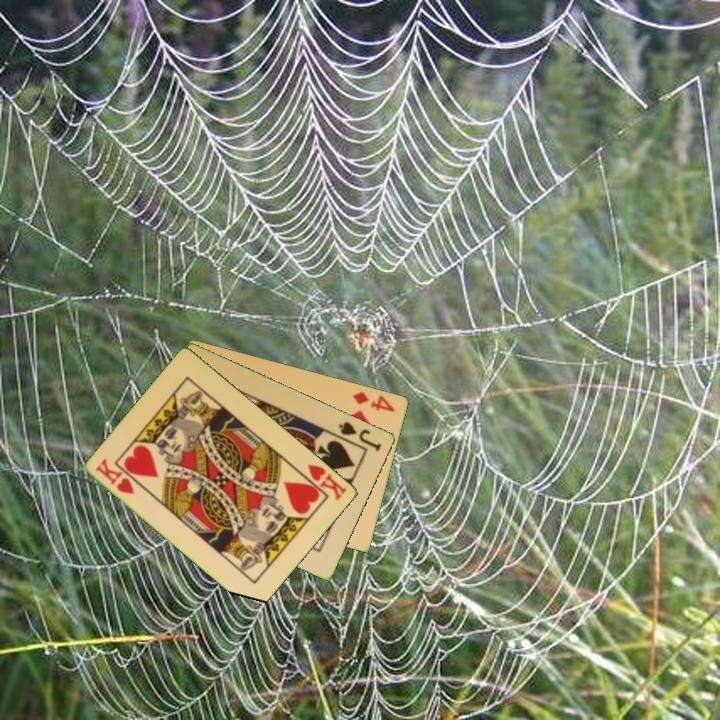4d: (349, 388, 398, 415)
Js: (335, 418, 385, 454)
Kh: (296, 460, 350, 504), (92, 455, 138, 497)
